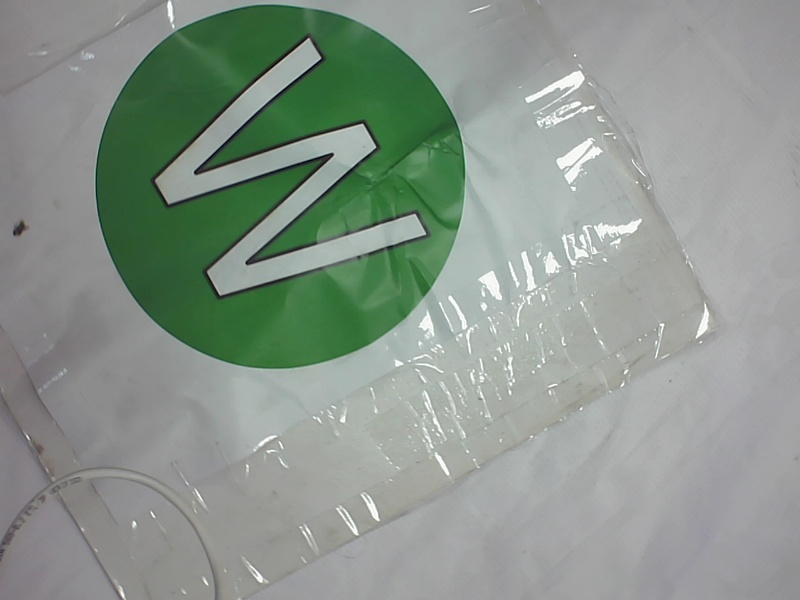areaB: (81, 6, 474, 382)
